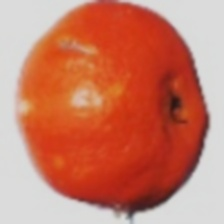tangerine: (26, 19, 194, 209)
